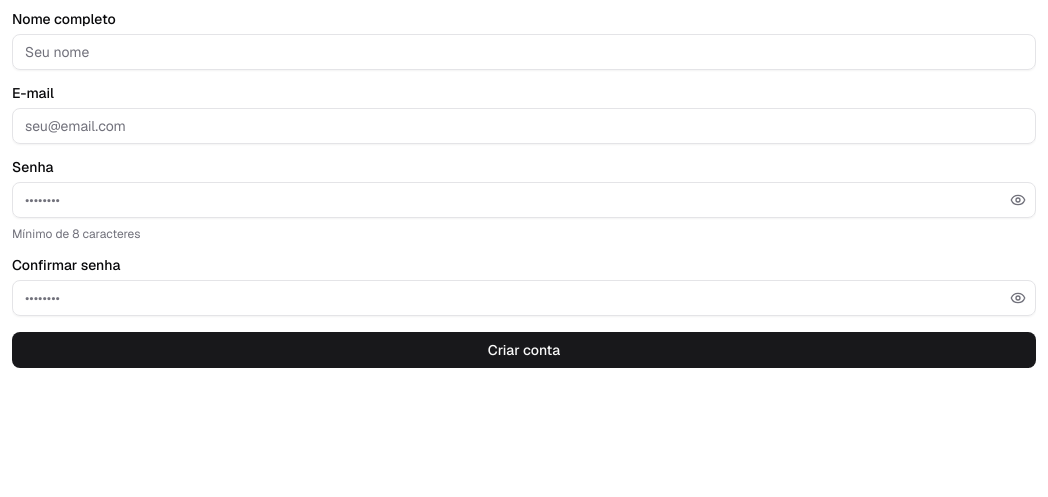
Test: RegisterForm › Acessibilidade › should have error messages with role="alert"
Click the button "Criar conta": (524, 350) [12,332,1036,368]
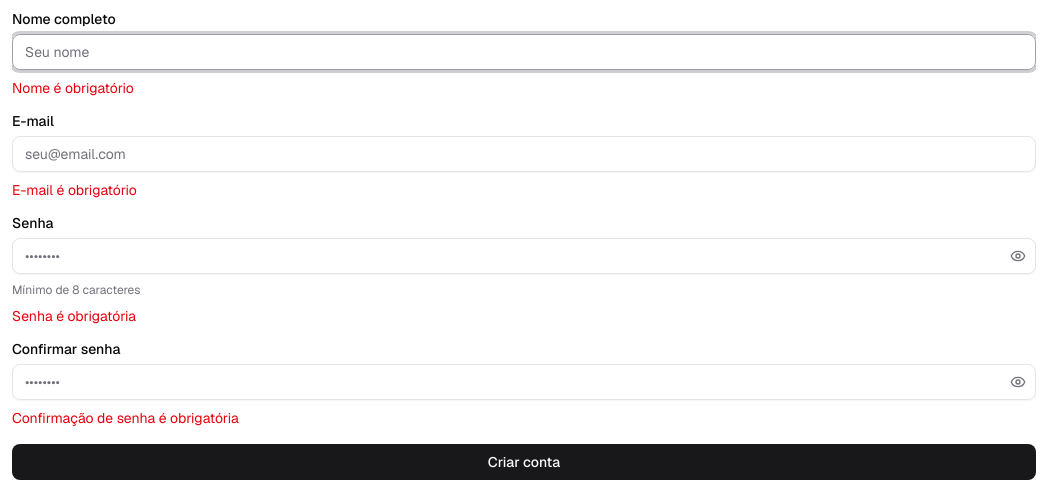
Expected: the message "Nome é obrigatório" is shown, [12,79,134,97]
